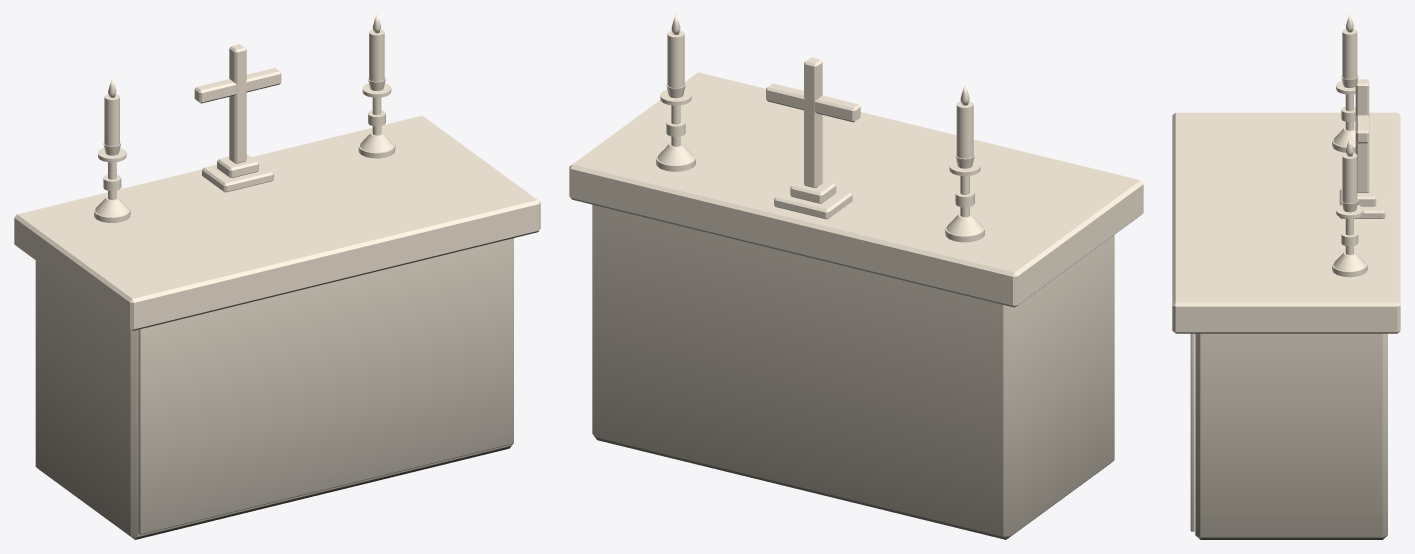
The model's file is SM_VKI_Prop_Altar_300.fbx.
3 renders of one model, left to right at view 1: azimuth 30°, elevation 25°; view 2: azimuth 150°, elevation 25°; view 3: azimuth 270°, elevation 25°, orthographic. The views are drawn at different scales.
Visible parts, largest first — view 1: SM_VKI_Prop_Altar_300.001; view 2: SM_VKI_Prop_Altar_300.001; view 3: SM_VKI_Prop_Altar_300.001.
Boxes of the visible parts, left/top/right/bottom form: SM_VKI_Prop_Altar_300.001: left=14, top=14, right=540, bottom=539; SM_VKI_Prop_Altar_300.001: left=569, top=14, right=1143, bottom=539; SM_VKI_Prop_Altar_300.001: left=1172, top=14, right=1400, bottom=539.
Size of the model in its own units: 1.8 by 1.64 by 0.9.
